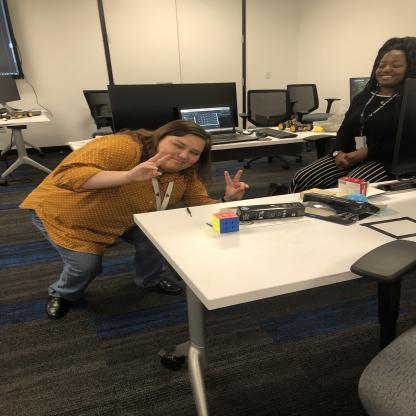SolvedCube: (206, 209, 242, 238)
